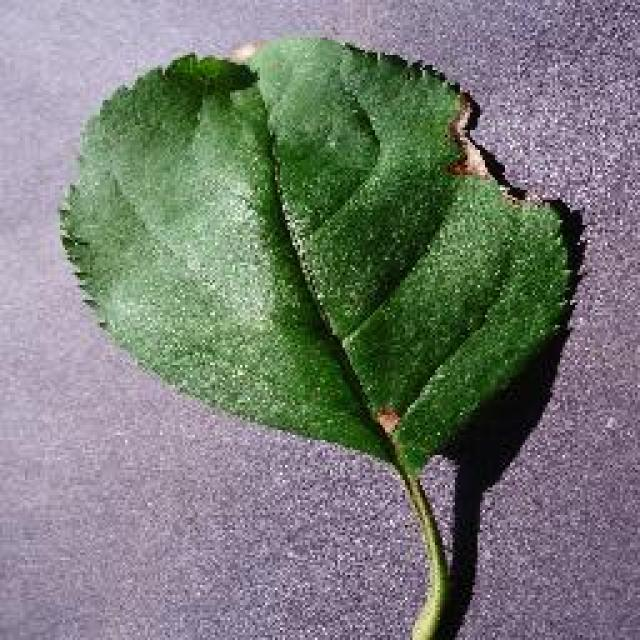apple black rot: (55, 32, 587, 638)
